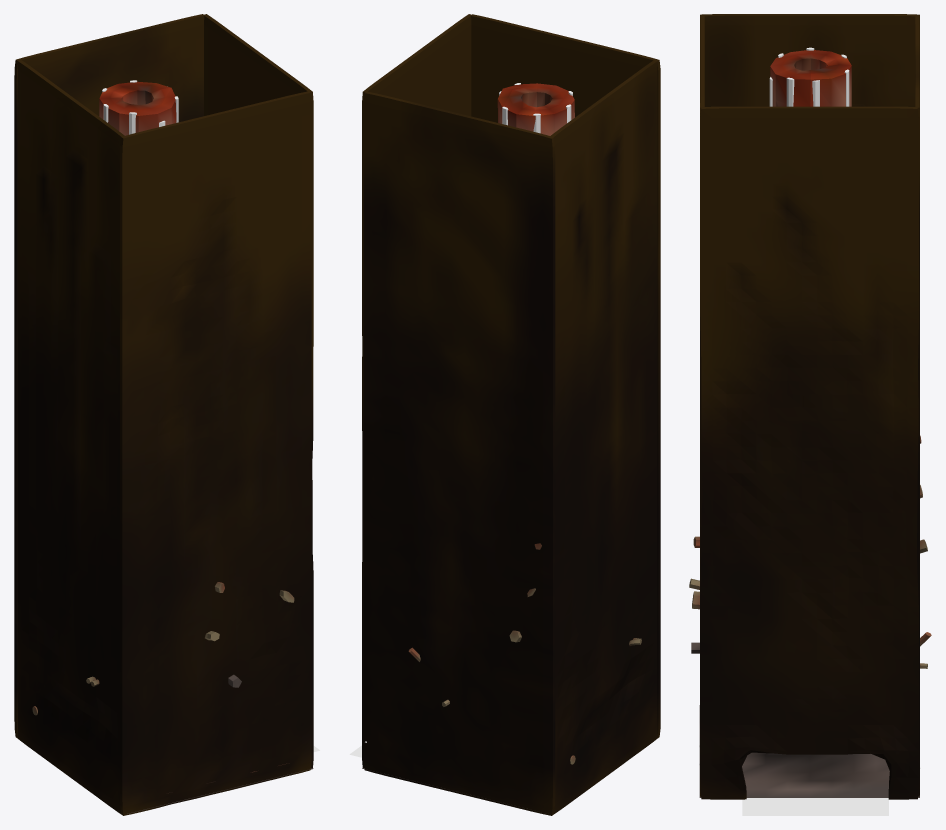
Rendered from Incinérateur 2.fbx.
The picture shows the model from 3 angles, left to right: view 1: azimuth 30°, elevation 25°; view 2: azimuth 150°, elevation 25°; view 3: azimuth 270°, elevation 25°; orthographic projection.
Visible parts, largest first — view 1: Mur fond 2, Mur fond, Mur fond 3, Mur fond 1, Cylindre; view 2: Mur fond 3, Mur fond, Mur fond 2, Mur fond 1, Cylindre; view 3: Mur fond 1, Mur fond, Plan 1, Cylindre, Plan 5, Mur fond 3, Mur fond 2, Tube.
Part boxes in pixels (x1,y1,x2,y2): Mur fond 2: (120, 91, 311, 815); Mur fond: (17, 60, 124, 813); Mur fond 3: (14, 14, 204, 738); Mur fond 1: (203, 14, 313, 769); Cylindre: (99, 81, 176, 135); Mur fond 3: (363, 91, 555, 815); Mur fond: (550, 60, 658, 813); Mur fond 2: (471, 14, 660, 738); Mur fond 1: (362, 14, 471, 769); Cylindre: (497, 83, 574, 135); Mur fond 1: (700, 106, 918, 799); Mur fond: (702, 14, 916, 106); Plan 1: (699, 705, 919, 797); Cylindre: (770, 50, 851, 106); Plan 5: (742, 798, 888, 815); Mur fond 3: (915, 14, 919, 796); Mur fond 2: (699, 14, 704, 796); Tube: (769, 47, 849, 106).
Size of the model in its own units: 14.69 by 42.15 by 13.36.
